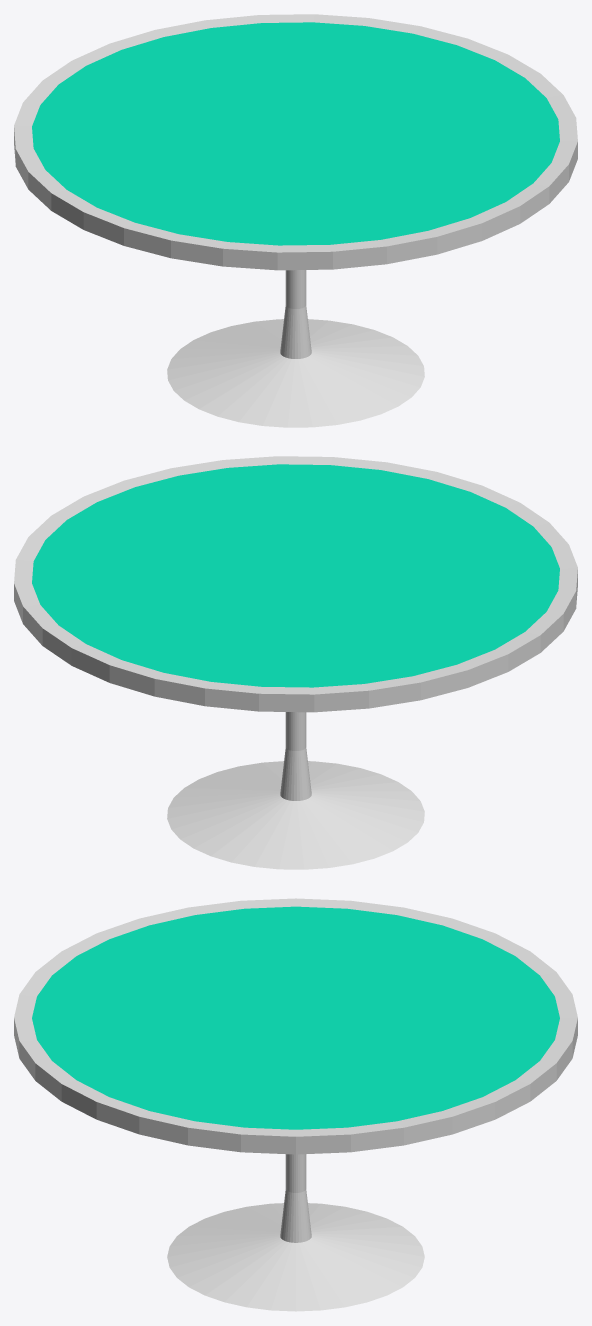
File: Garden_Table.fbx
The picture shows the model from 3 angles, top to bottom: view 1: azimuth 30°, elevation 25°; view 2: azimuth 150°, elevation 25°; view 3: azimuth 270°, elevation 25°; orthographic projection.
Parts seen in each view (by area): view 1: Garden Table; view 2: Garden Table; view 3: Garden Table.
Boxes of the visible parts, box(x1,y1,x2,y2) form: Garden Table: box(14, 14, 577, 427); Garden Table: box(14, 456, 577, 869); Garden Table: box(14, 898, 577, 1311).
Bounding box in the file's own units: 105 × 49.04 × 105.
